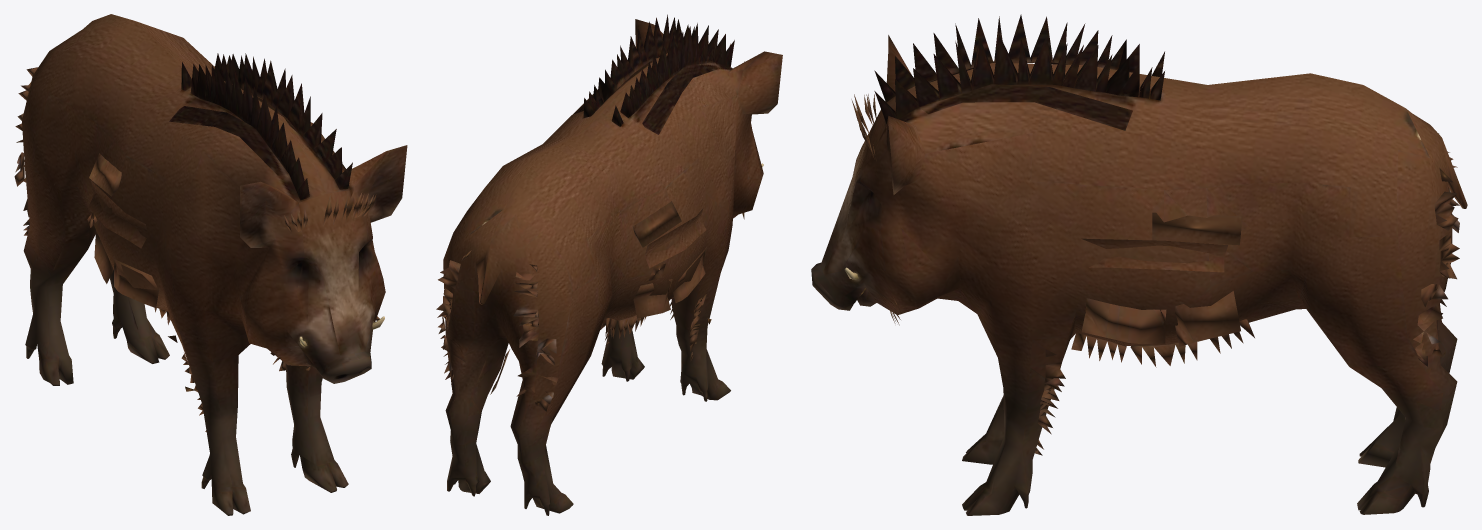
The model's file is javaporco_ruivo_lod.glb.
3 renders of one model, left to right at view 1: azimuth 30°, elevation 25°; view 2: azimuth 150°, elevation 25°; view 3: azimuth 270°, elevation 25°, orthographic. The views are drawn at different scales.
Visible parts, largest first — view 1: Javaporco ruivo; view 2: Javaporco ruivo; view 3: Javaporco ruivo.
Boxes of the visible parts, left/top/right/bottom form: Javaporco ruivo: left=14, top=14, right=407, bottom=515; Javaporco ruivo: left=436, top=14, right=782, bottom=515; Javaporco ruivo: left=811, top=14, right=1467, bottom=515.
Size of the model in its own units: 0.373 by 0.7715 by 0.9961.
1 material, 1 textured.
